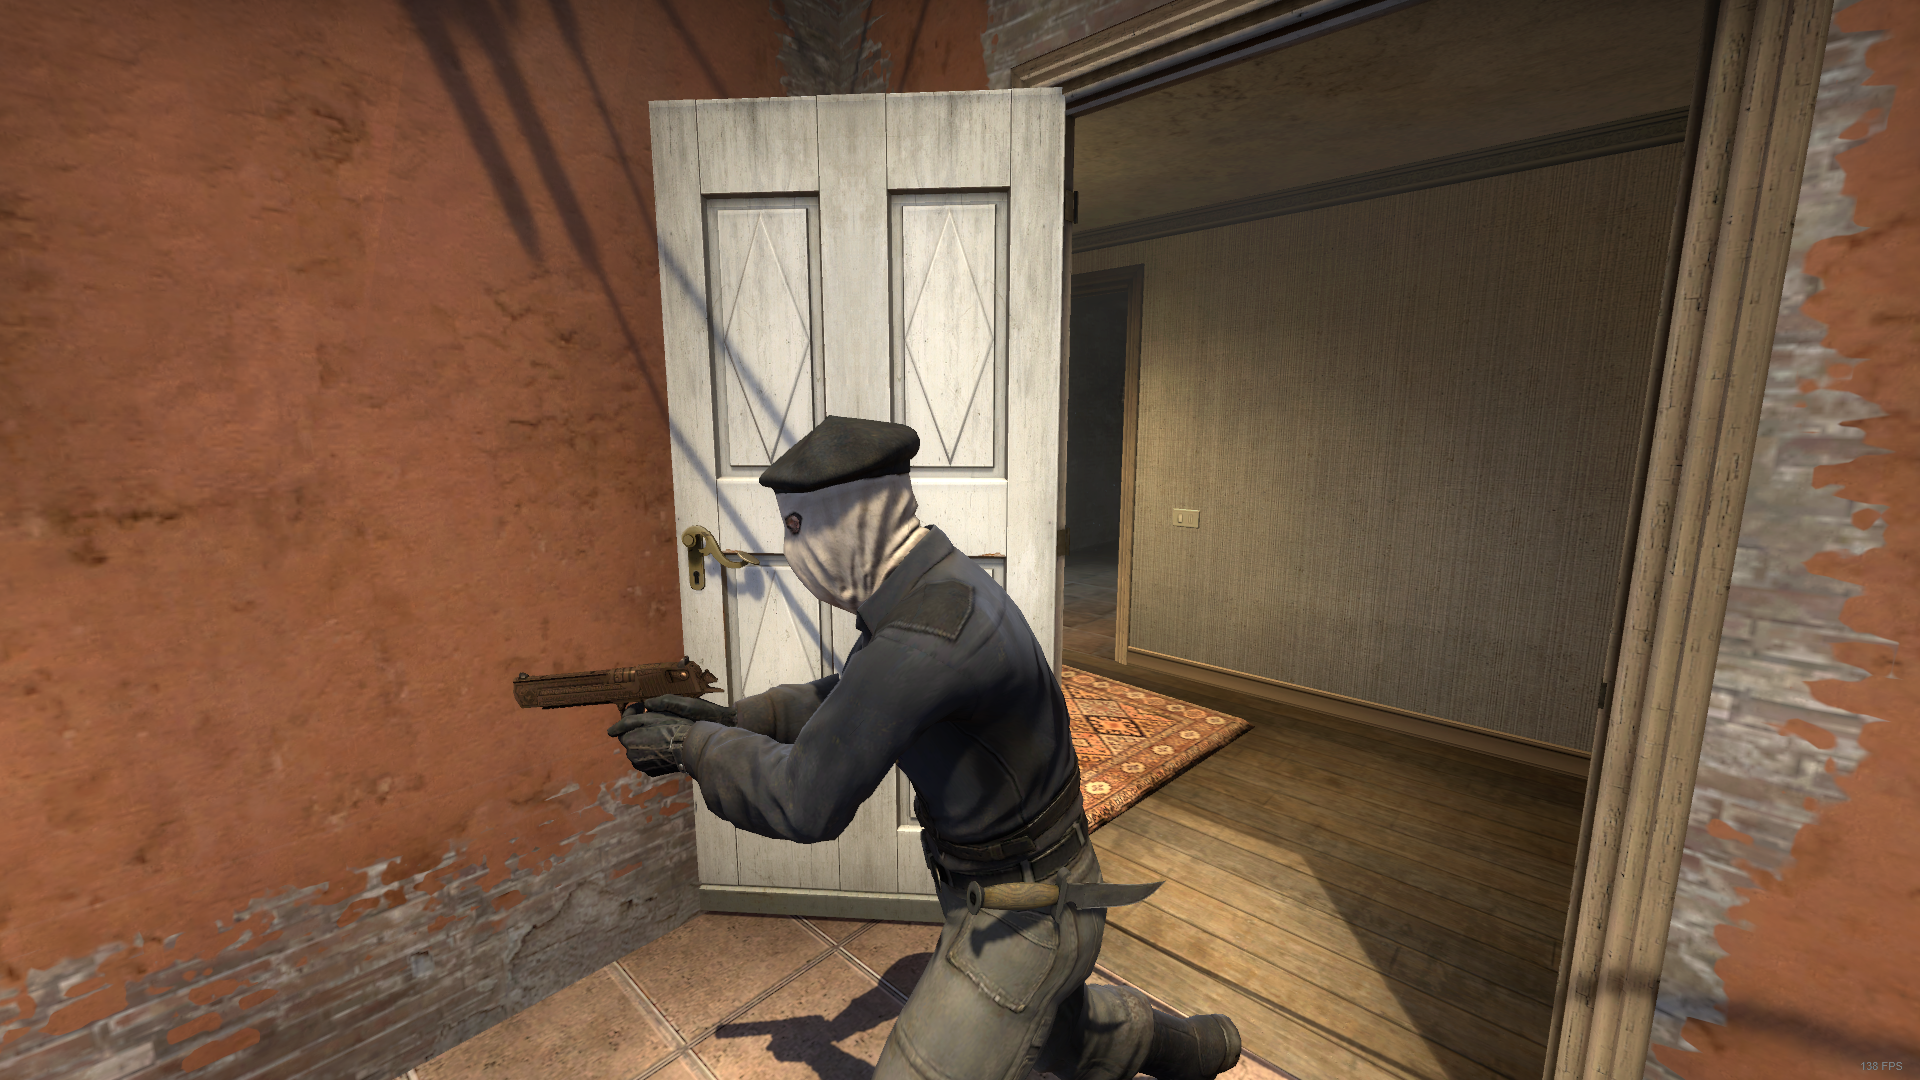t: (593, 401, 1269, 1080)
